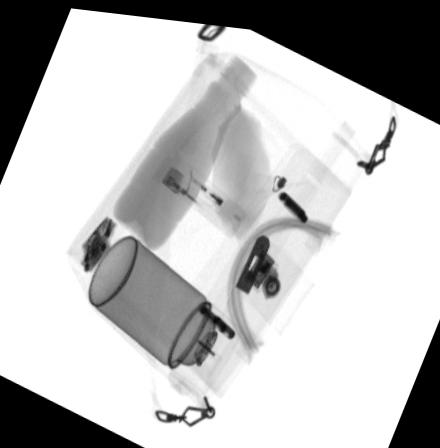Lighter: (159, 152, 245, 234)
Sprayer: (87, 234, 241, 388)
